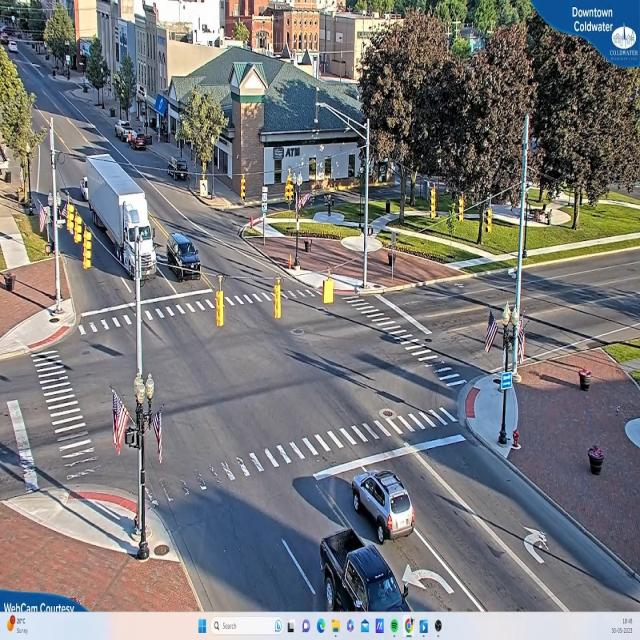car: (352, 471, 416, 543), (343, 543, 407, 611), (404, 565, 455, 607), (129, 135, 149, 150)
truck: (87, 145, 167, 287)
